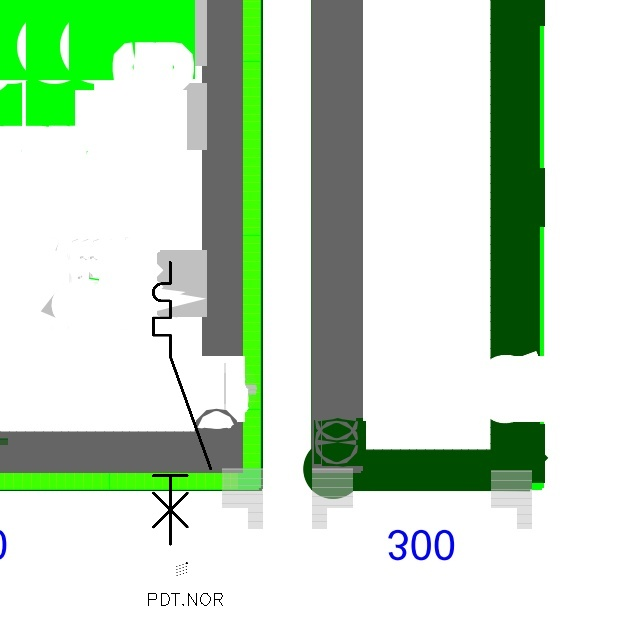interruptor_termomagnetico: (146, 255, 218, 552)
